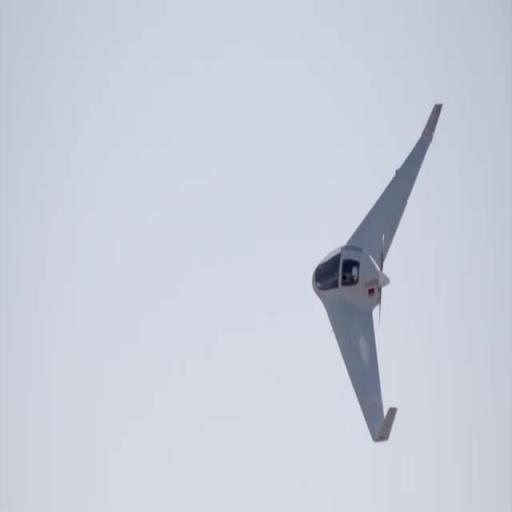uav: (310, 94, 450, 456)
